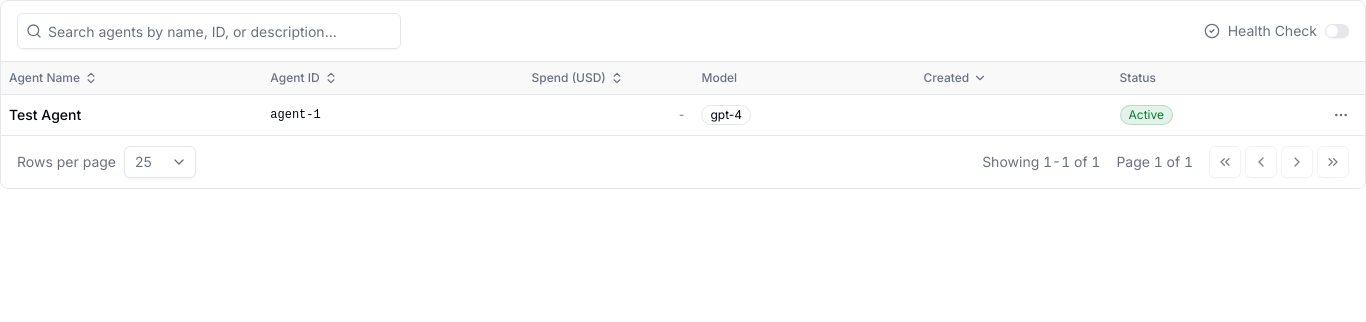
AgentsTable › shows the no-match empty state when the search matches nothing
Type "zzzz" into the field with placeholder "Search agents by name, ID, or description..." at [221, 31], box [42,13,400,49]
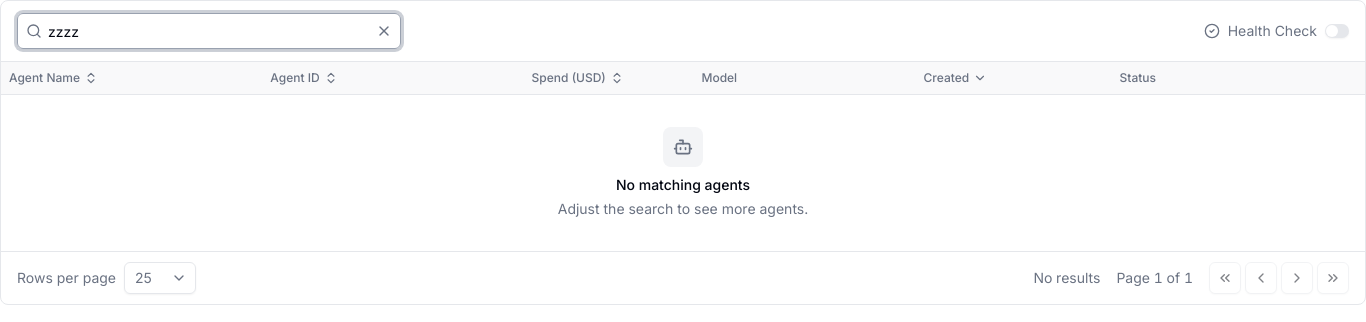
Check: the text "Test Agent" is gone
Check: the text "No matching agents" is shown, box [616,174,750,194]
